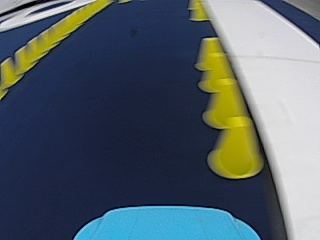cone: (195, 39, 252, 126), (206, 110, 265, 179), (194, 38, 238, 94), (194, 37, 225, 72), (0, 56, 17, 88), (189, 2, 207, 20)
